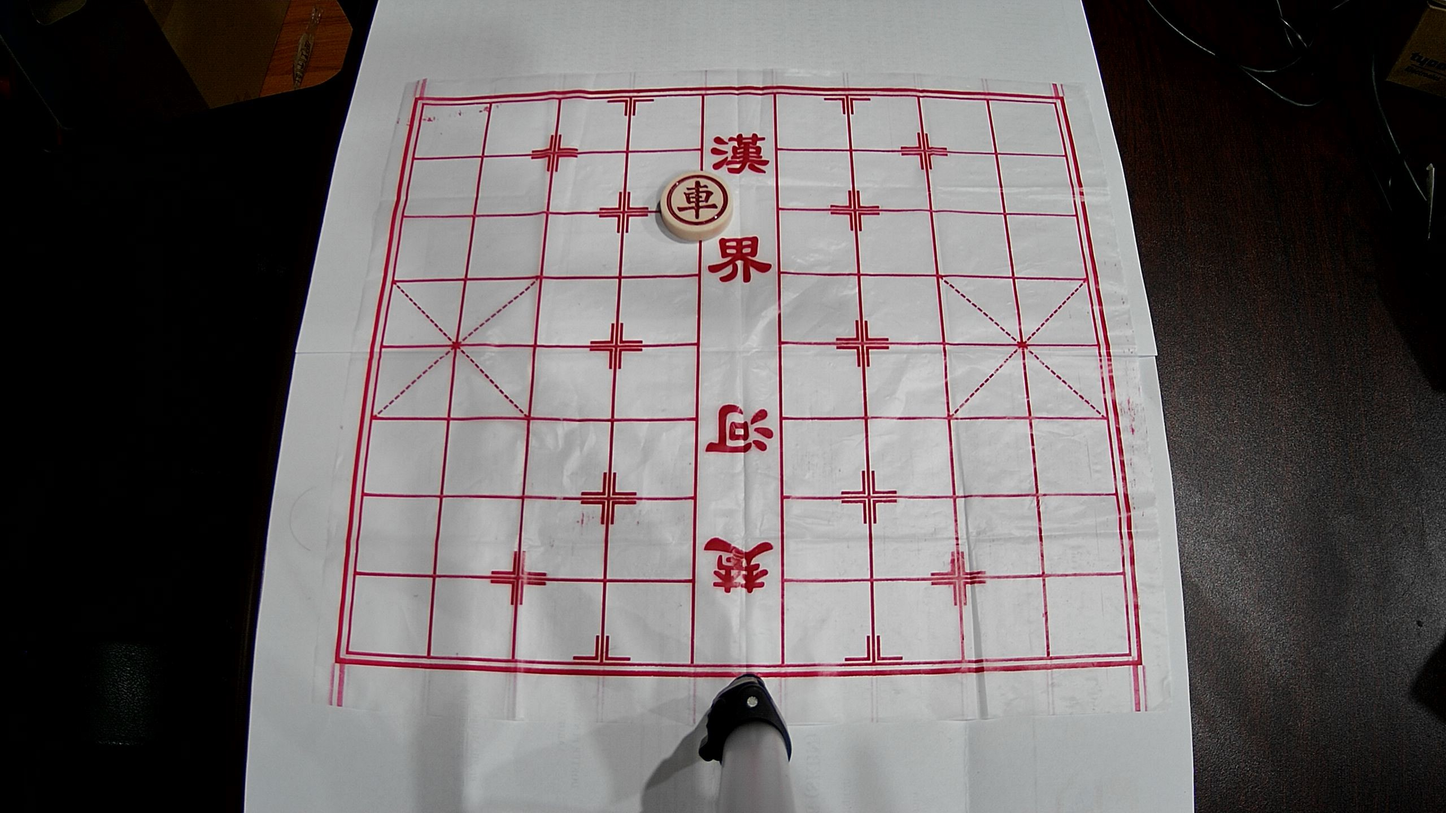Red-Chariot: (660, 171, 733, 241)
